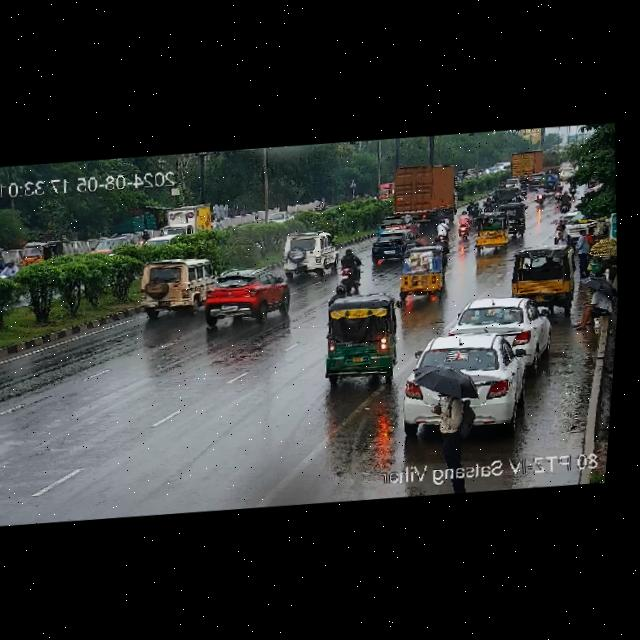car: (400, 329, 548, 426), (310, 290, 405, 392), (446, 292, 554, 360), (197, 262, 294, 325), (136, 253, 215, 320), (506, 245, 579, 307), (391, 242, 447, 298), (274, 231, 335, 281), (471, 208, 514, 251), (394, 266, 444, 300), (368, 227, 411, 261), (18, 239, 61, 266), (569, 207, 609, 235), (378, 209, 416, 234), (506, 177, 522, 187)
motorcycle: (337, 244, 366, 292), (465, 195, 496, 217), (324, 281, 350, 305), (455, 209, 472, 240), (434, 218, 449, 241), (558, 190, 572, 213), (0, 243, 9, 277), (534, 183, 547, 206), (552, 181, 563, 203), (519, 180, 528, 197), (510, 191, 523, 202), (497, 180, 505, 188)
person: (428, 385, 468, 460), (565, 281, 617, 332), (572, 228, 592, 273), (556, 223, 570, 244), (585, 225, 598, 242)
truck: (371, 160, 460, 225), (162, 204, 211, 236), (508, 149, 544, 180), (539, 149, 561, 174), (540, 172, 558, 185)
